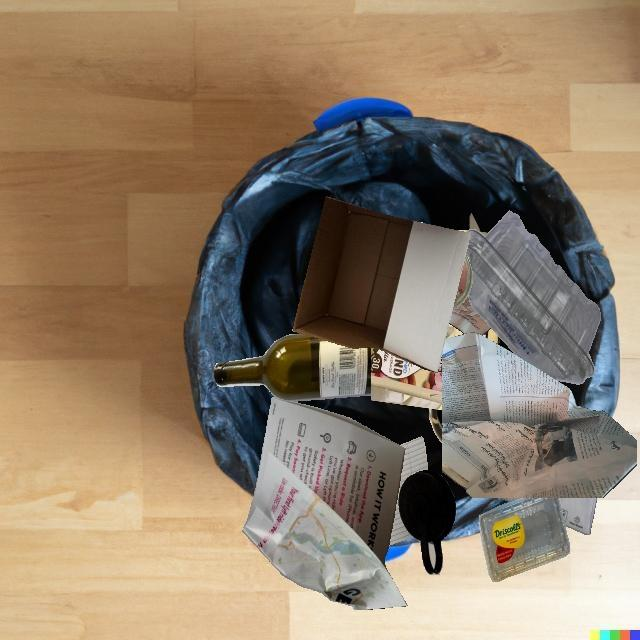cardboard: (292, 196, 471, 372), (396, 232, 484, 362), (371, 353, 442, 410), (371, 347, 396, 400)
glass: (214, 334, 371, 401), (453, 253, 473, 309), (429, 409, 444, 443), (485, 236, 485, 236)
paper: (242, 397, 407, 610), (442, 332, 637, 498), (389, 436, 428, 545), (449, 296, 491, 335), (558, 498, 597, 535)
plastic: (466, 211, 601, 384), (478, 498, 570, 582), (398, 470, 456, 575)
